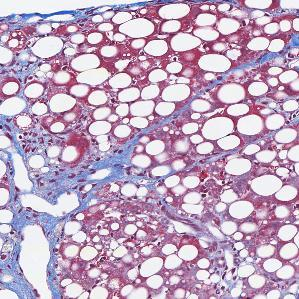fibrosis: (39, 157, 134, 204)
